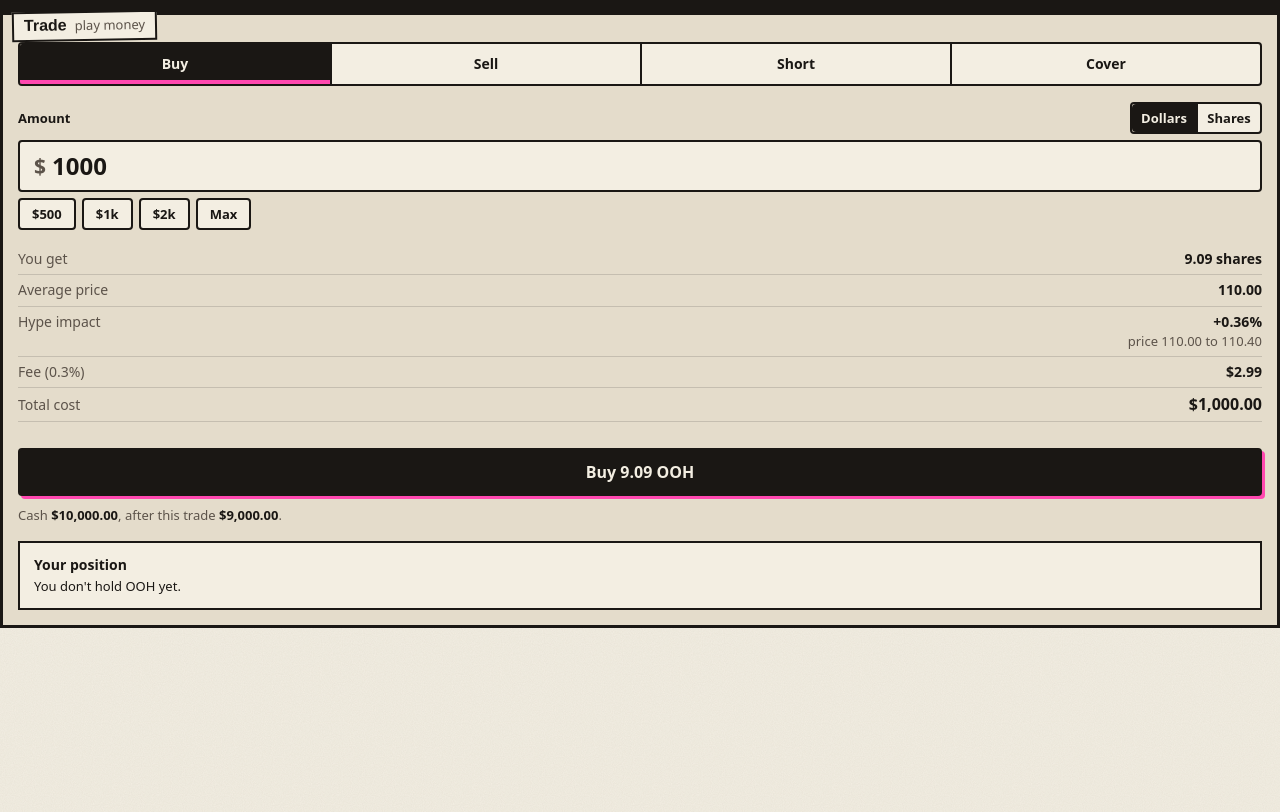
Test: an order the engine did not answer › never says Not traded when the order may have traded
The image size is (1280, 812).
Click the button "Buy 9.09 OOH" at (640, 472), box [18,448,1262,496]
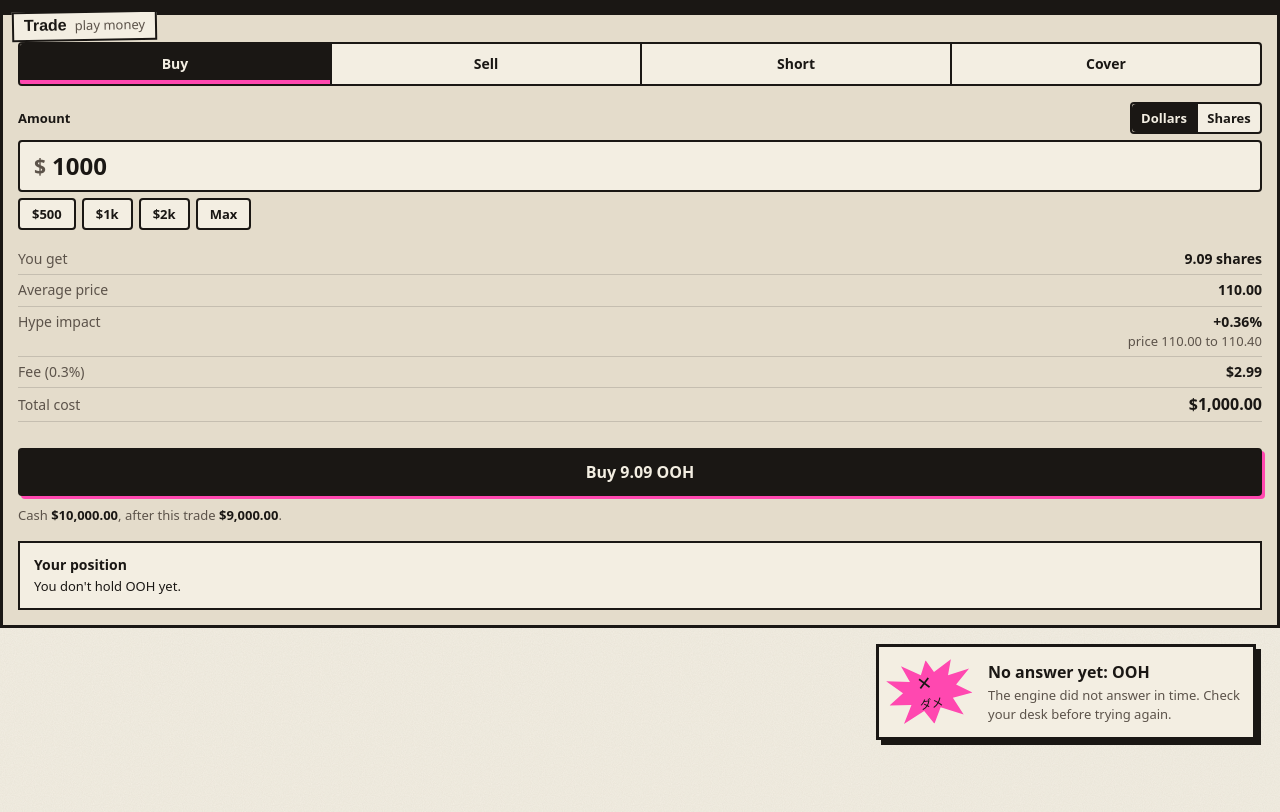
Now the text "No answer yet: OOH" is shown, box [988,661,1150,683]
Now the text "Check your desk before trying again" is shown, box [988,686,1240,723]
